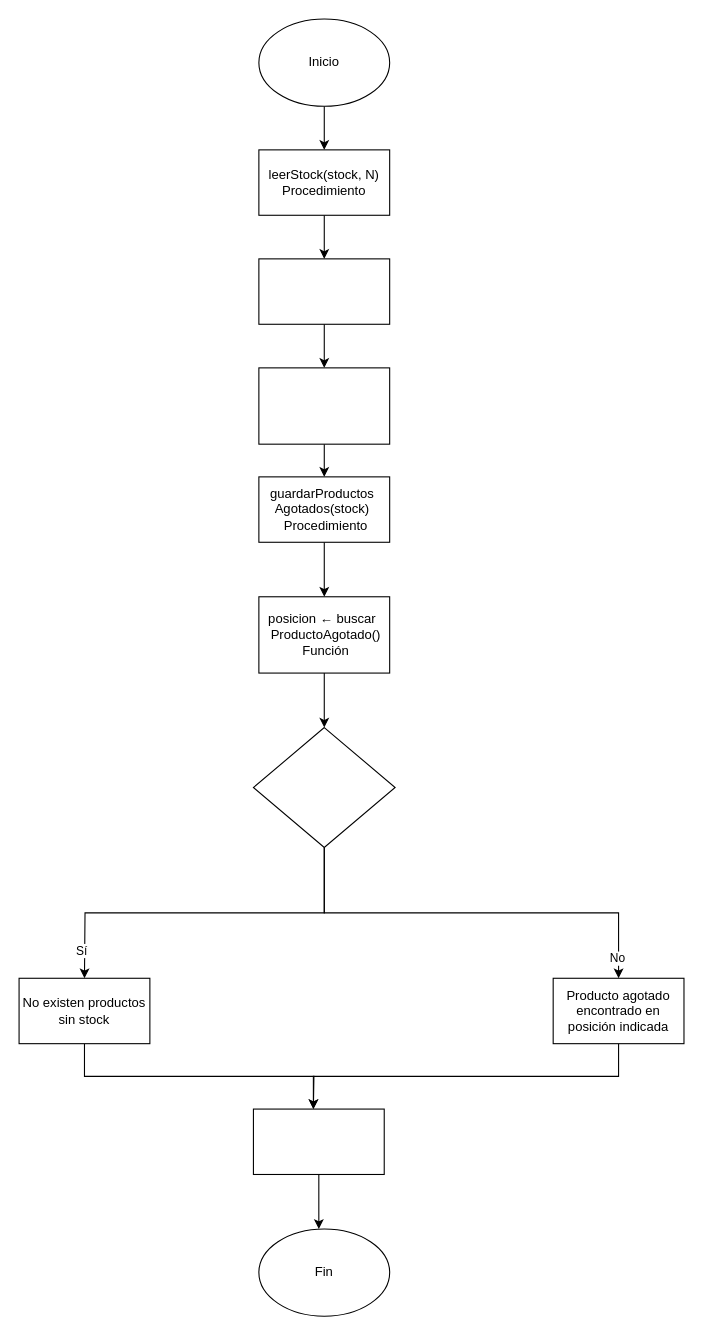
This 703x1335 diagram has some shape labels left out. Each missing label, with the box of its shape:
bubblerSort(stock, N) Procedimiento: (258, 258, 390, 324)
mostrarReporte() Procedimiento: (252, 1108, 384, 1174)
total ← calcular StockTotal(stock, N) Función: (258, 367, 390, 444)
¿posicion = -1?: (252, 726, 395, 847)
